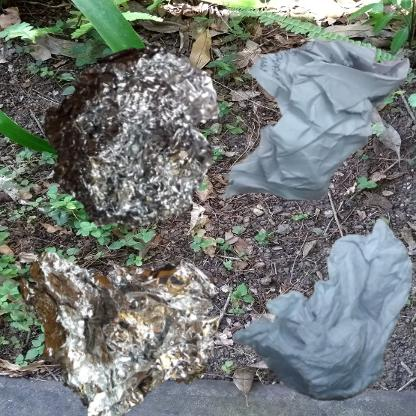aluminio: (10, 10, 279, 290), (10, 213, 249, 416)
papel: (213, 10, 416, 256), (213, 213, 416, 416)
